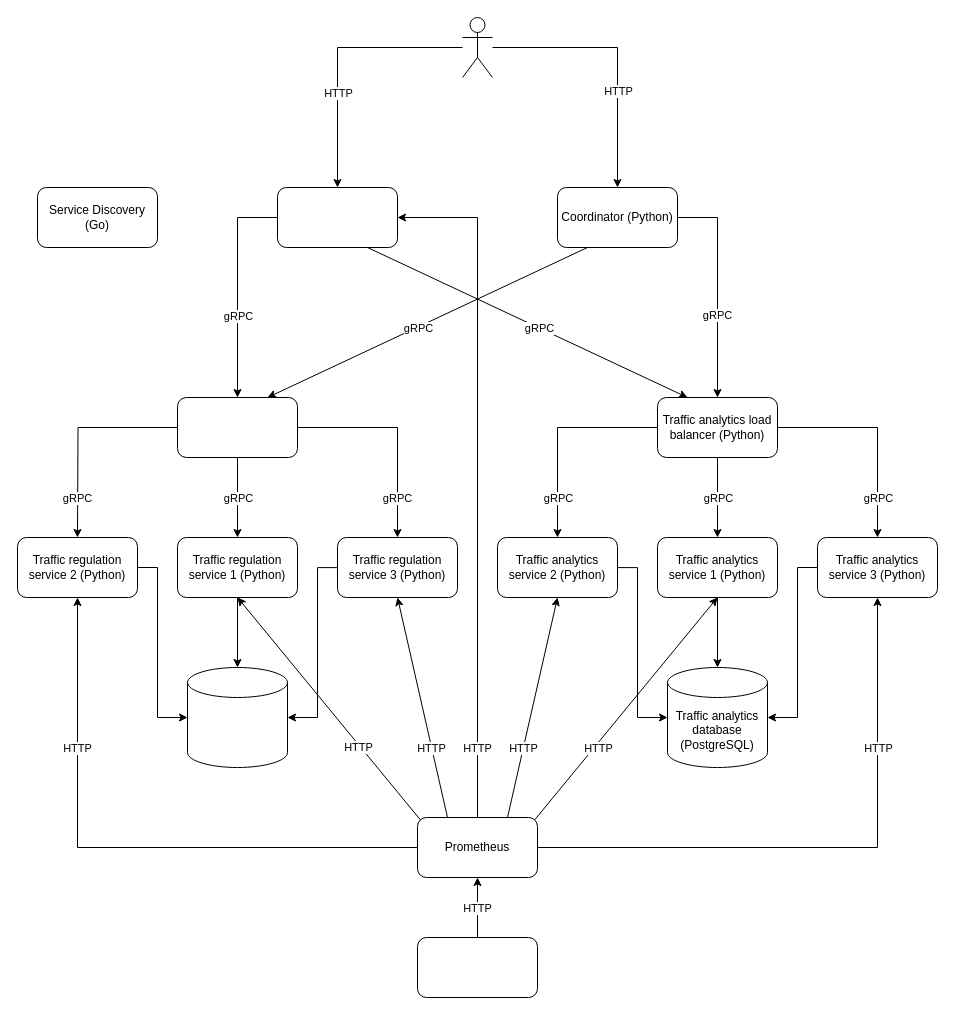
Some shapes in this 955 by 1015 pixel diagram are drawn without their labels. Each missing label, with the centre of its shape:
Client: point (477, 47)
Gateway (Go): point (337, 217)
Grafana: point (477, 967)
Traffic regulation database (PostgreSQL): point (237, 717)
Traffic regulation load balancer (Python): point (237, 427)
